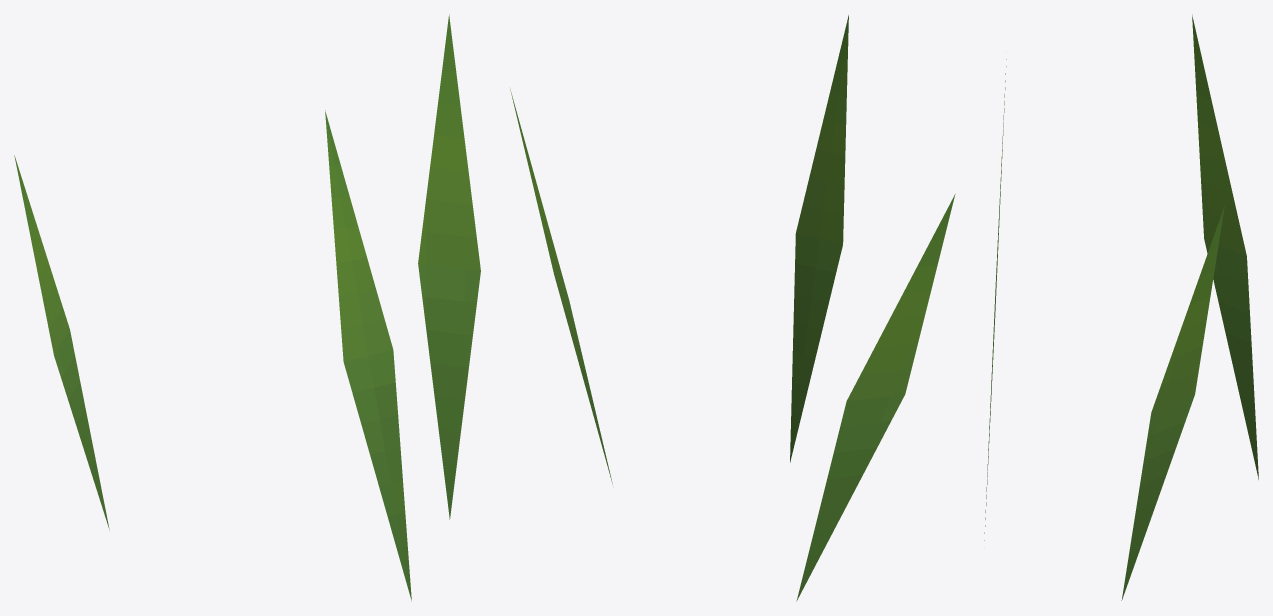
The model's file is plants_me_dlc2_main_grass511.gltf.
3 renders of one model, left to right at view 1: azimuth 30°, elevation 25°; view 2: azimuth 150°, elevation 25°; view 3: azimuth 270°, elevation 25°, orthographic. The views are drawn at different scales.
Parts seen in each view (by area): view 1: plants_me_dlc2_main_grass511_mesh_shape:plants_me_dlc2_main_; view 2: plants_me_dlc2_main_grass511_mesh_shape:plants_me_dlc2_main_; view 3: plants_me_dlc2_main_grass511_mesh_shape:plants_me_dlc2_main_.
Part boxes in pixels (x1,y1,x2,y2): plants_me_dlc2_main_grass511_mesh_shape:plants_me_dlc2_main_: (14,14,480,601); plants_me_dlc2_main_grass511_mesh_shape:plants_me_dlc2_main_: (510,15,955,601); plants_me_dlc2_main_grass511_mesh_shape:plants_me_dlc2_main_: (984,14,1258,600).
Size of the model in its own units: 0.4252 by 0.45 by 0.24.
1 material, 1 textured.
